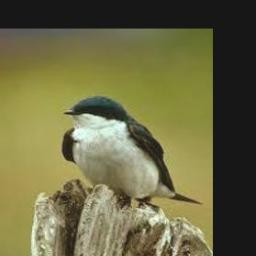Swallow: (62, 96, 201, 206)
